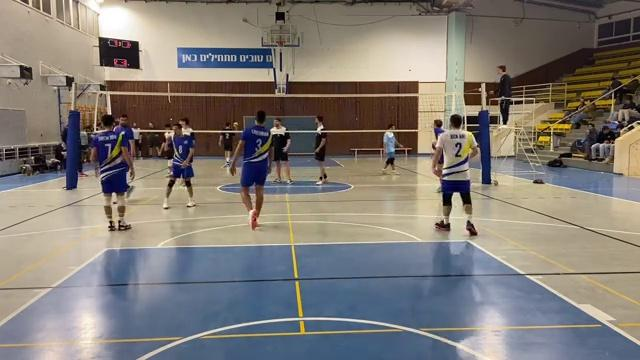ball: (234, 121, 240, 128)
